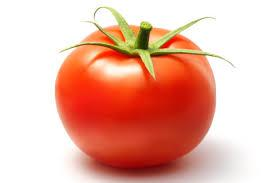tomato: (58, 26, 214, 168)
